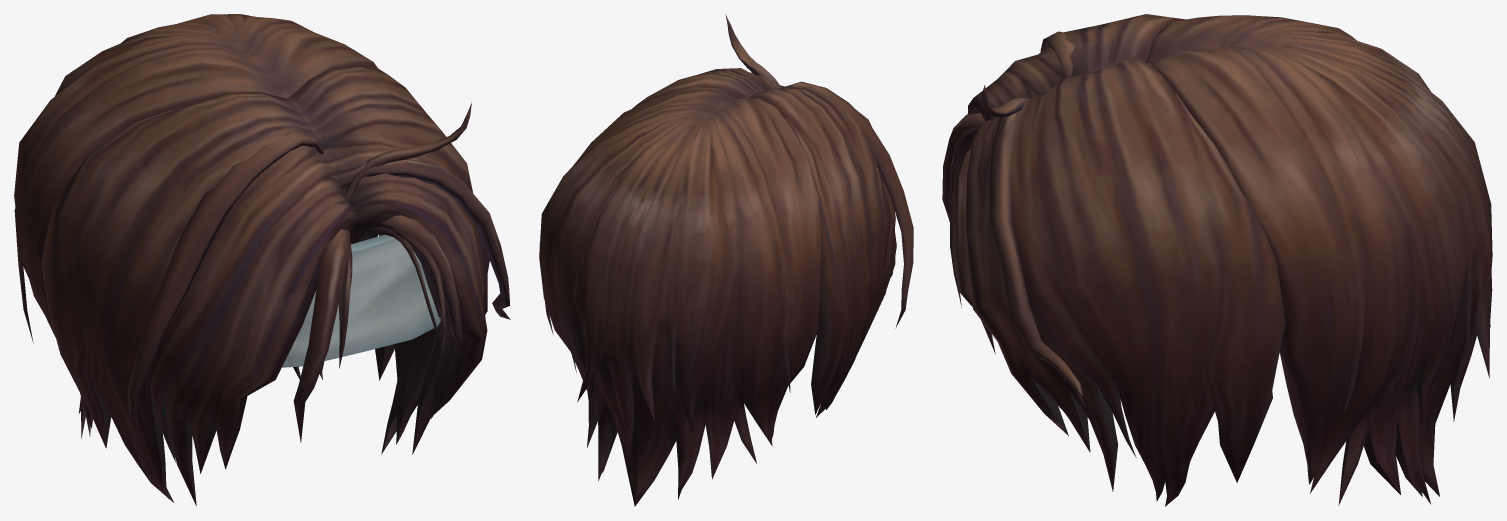
The model's file is hairfbx.fbx.
3 views of the same model, side by side, from view 1: azimuth 30°, elevation 25°; view 2: azimuth 150°, elevation 25°; view 3: azimuth 270°, elevation 25° (orthographic). The views are drawn at different scales.
Parts seen in each view (by area): view 1: Sa_; view 2: Sa_; view 3: Sa_.
Part boxes in pixels (<box>): Sa_: <box>14,14,510,505</box>; Sa_: <box>539,14,913,506</box>; Sa_: <box>942,14,1492,506</box>.
Size of the model in its own units: 9.06 by 10.44 by 11.19.
1 material, 1 textured.
